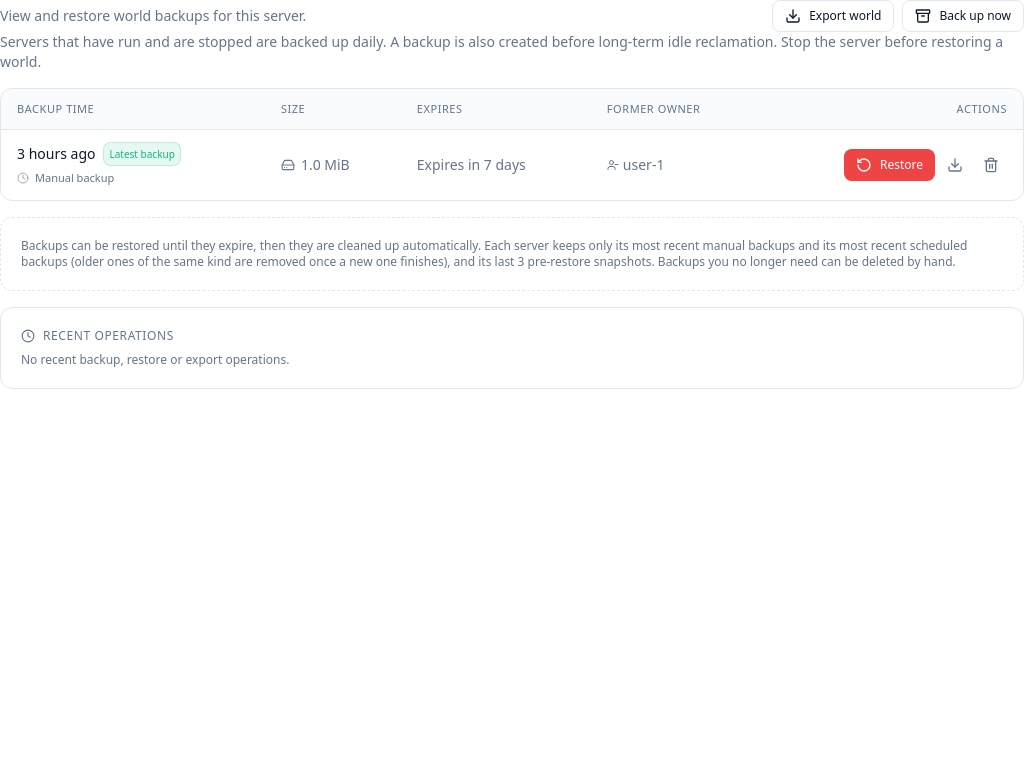
it: ServerBackups delete › says when it is the server's only backup
Expected: the text "3 hours ago" is shown, [17,144,96,164]
Click the button named "Delete backup" at [991, 165], box [975,149,1007,181]
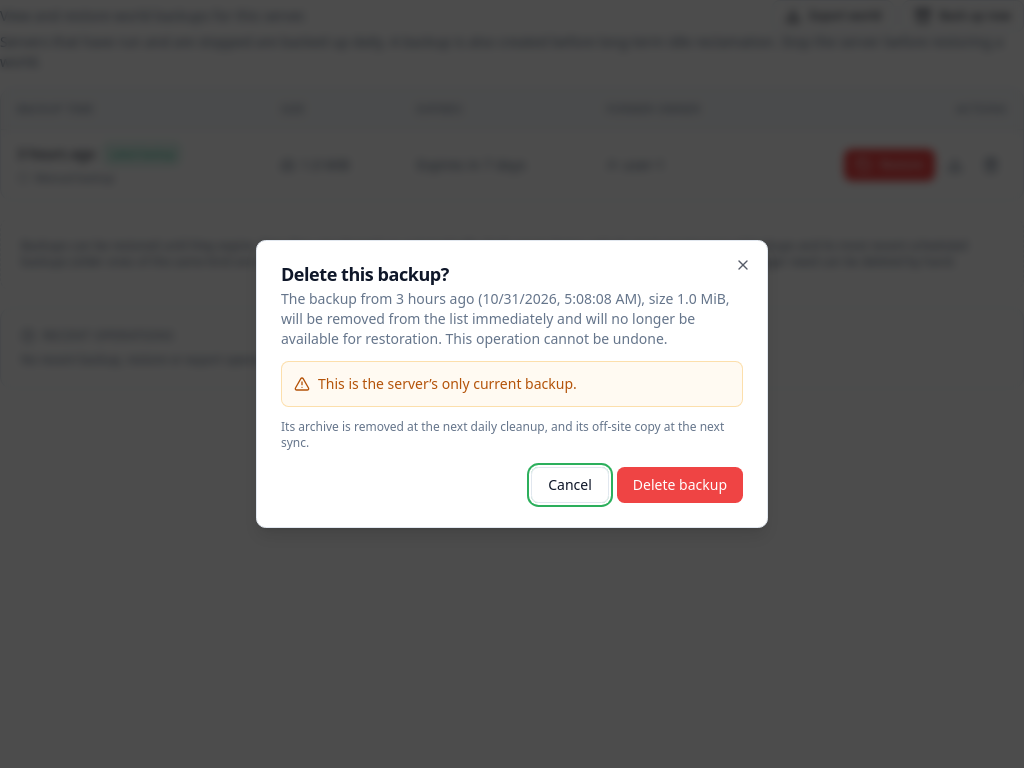
Now the dialog is shown, box [256,240,768,528]
Now the text "This is the server’s only current backup." is shown, box [318,374,577,394]
